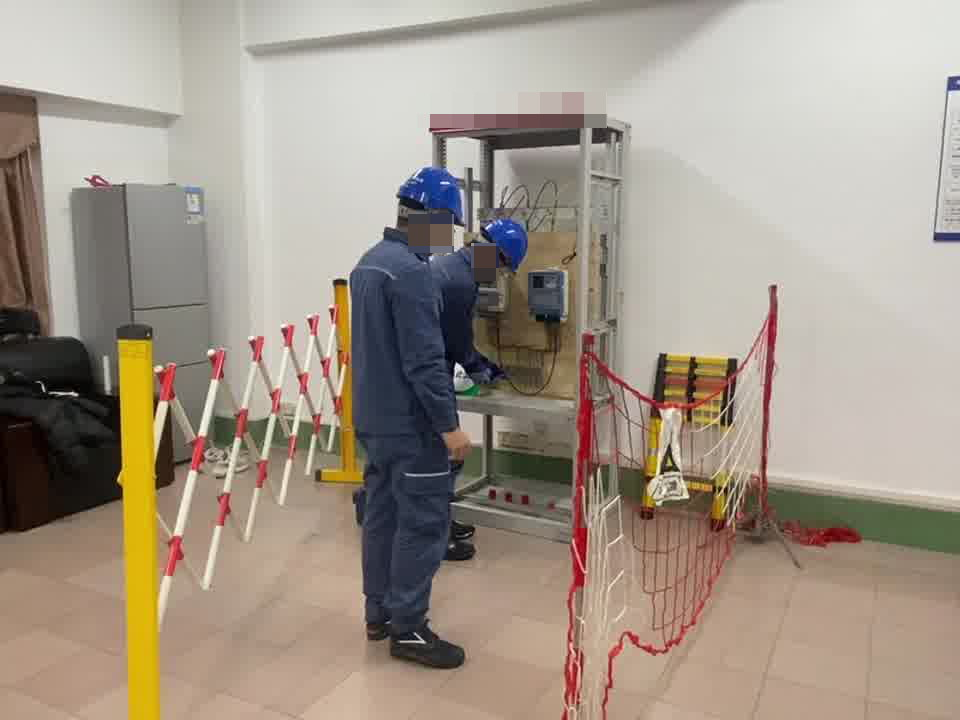downsuit: (357, 442, 458, 632)
glove: (468, 355, 505, 390)
halt: (397, 164, 466, 253), (478, 217, 530, 279)
hand: (443, 428, 474, 466)
inear: (424, 209, 448, 247), (480, 239, 501, 278)
person: (346, 160, 515, 663)
upsuit: (346, 224, 461, 433)
worksign: (452, 359, 483, 397)
